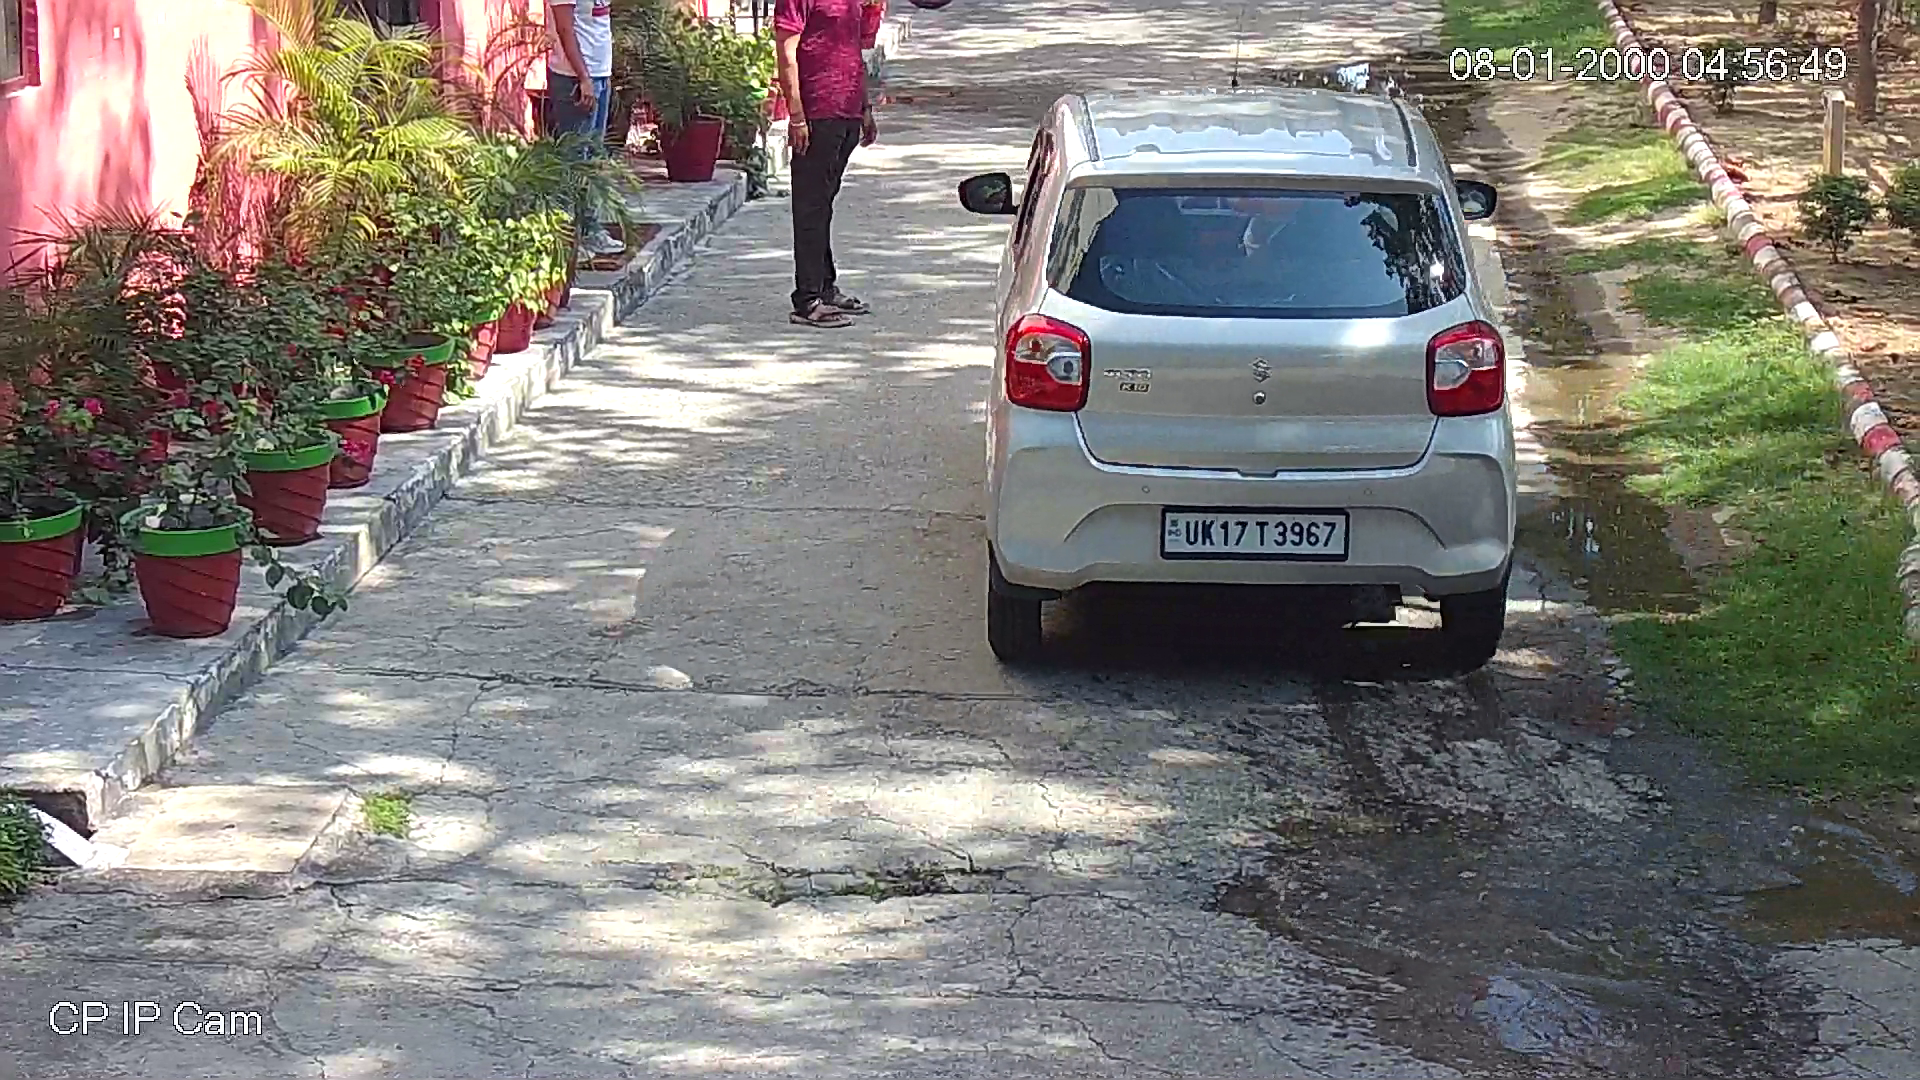plate: (1158, 503, 1356, 569)
